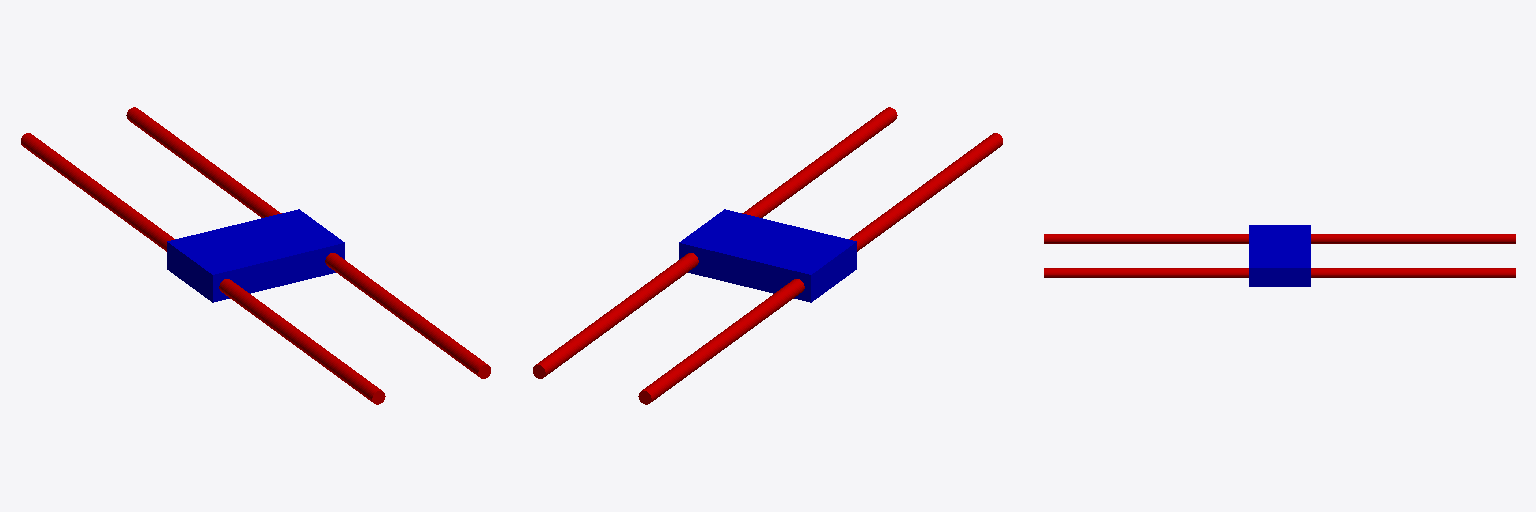
robot.urdf — Tetrapod:
<?xml version="1.0"?>

<robot name="Tetrapod">

    <material name="red">
        <color rgba="0.8 0.0 0.0 1.0"/>
    </material>

    <material name="green">
        <color rgba="0.0 0.8 0.0 1.0"/>
    </material>

    <material name="blue">
        <color rgba="0.0 0.0 0.8 1.0"/>
    </material>

    <material name="white">
        <color rgba="1.0 1.0 1.0 1.0"/>
    </material>

    <material name="black">
        <color rgba="0.1 0.1 0.1 1.0"/>
    </material>

    <!-- Dummy link-->
    <link name="base_link"></link>
    <joint name="base_link_joint" type="fixed">
        <parent link="base_link"/>
        <child link="body"/>
    </joint>

    <link name="body">
        <inertial>
            <mass value="3.0" />
            <inertia ixx="0.12" ixy="0" ixz="0" iyy="0.14" iyz="0" izz="0.07"/>
        </inertial>
        <visual>
            <geometry>
                <box size="0.5 0.3 0.1"/>
            </geometry>
            <material name="blue"/>
        </visual>
        <!--collision>
            <geometry>
                <box size="0.5 0.3 0.2"/>
            </geometry>
        </collision-->
    </link>
    
		

		<!-- Left front link -->

    <link name="front_left_hip">
        <inertial>
            <origin xyz="0.0 0.0 0.0" rpy="0 0 0" />
            <mass value="1.0" />
            <inertia ixx="1.0" ixy="0" ixz="0" iyy="1.0" iyz="0" izz="1.0" />
        </inertial>
				
        <!--visual>
            <origin xyz="0 0 0" rpy="0 0 0" />
            <geometry>
                <box size = "0.05 0.2 0.2" />
            </geometry>
            <material name="black" />
        </visual-->
    </link>

	
    <joint name="front_left_hip_yaw" type="revolute">
        <parent link="body"/>
        <child link="front_left_hip"/>
        <origin xyz="0.2 0.15 0.0" rpy="0.0 0.0 1.5708"/> <!--rpy="0.0 0.0 1.5708"/-->
        <axis xyz="0 0 1"/>
        <limit effort="100.0" lower="-1.5" upper="1.5" velocity="100.0"/>
    </joint>
		
    <transmission type="SimpleTransmission">
        <joint name="front_left_hip_yaw"/>
        <actuator name="front_left_hip_yaw"/>
    </transmission>
		
    <link name="front_left_upper_leg">
        <inertial>
            <origin xyz="0.25 0.0 0.0" rpy="0.0 1.5708 0.0"/>
            <mass value="1.0"/>
            <inertia ixx="1.0" ixy="0" ixz="0" iyy="1.0" iyz="0" izz="1.0"/>
        </inertial>
        <visual>
            <origin xyz="0.25 0.0 0.0" rpy="0.0 1.5708 0.0"/>
            <mass value="1.0"/>
            <geometry>
                <cylinder length="0.5" radius="0.025"/>
            </geometry>
            <material name="red"/>
        </visual>
    </link>

    <joint name="front_left_hip_pitch" type="revolute">
        <parent link="front_left_hip"/>
        <child link="front_left_upper_leg"/>
        <origin xyz="0.0 0.0 0.0" rpy="0.0 0.0 0.0"/>
        <axis xyz="0.0 1.0 0.0" />
        <limit effort="1000" lower="-1.5" upper="1.5" velocity="100"/>
    </joint>

    <transmission type="SimpleTransmission">
        <joint name="front_left_hip_yaw"/>
        <actuator name="front_left_hip_yaw"/>
    </transmission>
		
    <link name="front_left_lower_leg">
        <inertial>
            <origin xyz="0.25 0.0 0.0" rpy="0.0 1.5708 0.0"/>
            <mass value="1.0"/>
            <inertia ixx="1.0" ixy="0" ixz="0" iyy="1.0" iyz="0" izz="1.0"/>
        </inertial>
        <visual>
            <origin xyz="0.25 0.0 0.0" rpy="0.0 1.5708 0.0"/>
            <geometry>
                <cylinder length="0.5" radius="0.025"/>
            </geometry>
            <material name="red"/>
        </visual>
        
        <!--collision group="left_lower_legs">
            <origin xyz="0.0 0.0 0.0"/>
            <geometry>
                <capsule radius="0.012" length="0.09"/>
            </geometry>
        </collision-->
        <!--collision group="feet">
            <origin xyz="0.0 0.0 0.0"/>
            <geometry>
                <sphere radius="0.0"/>
            </geometry>
        </collision-->
    </link>

    <joint name="front_left_knee" type="revolute">
        <parent link="front_left_upper_leg"/>
        <child link="front_left_lower_leg"/>
        <origin xyz="0.5 0.0 0.0"/>
        <axis xyz="0.0 1.0 0.0" />
        <limit effort="1000.0" lower="-1.0" upper="1.0" velocity="10"/>
    </joint>

    <transmission type="SimpleTransmission">
        <joint name="front_left_knee"/>
        <actuator name="front_left_knee"/>
    </transmission>

    <!--frame link="front_left_lower_leg" name="front_left_foot_center" xyz="-0.5 0.0 0.0"/-->




		<!-- Left rear link -->

    <link name="rear_left_hip">
        <inertial>
            <origin xyz="0.0 0.0 0.0" rpy="0 0 0" />
            <mass value="1.0" />
            <inertia ixx="1.0" ixy="0" ixz="0" iyy="1.0" iyz="0" izz="1.0" />
        </inertial>
				
        <!--visual>
            <origin xyz="0 0 0" rpy="0 0 0" />
            <geometry>
                <box size = "0.05 0.2 0.2" />
            </geometry>
            <material name="black" />
        </visual-->
    </link>

	
    <joint name="rear_left_hip_yaw" type="revolute">
        <parent link="body"/>
        <child link="rear_left_hip"/>
        <origin xyz="-0.2 0.15 0.0" rpy="0.0 0.0 1.5708"/> <!--rpy="0.0 0.0 1.5708"/-->
        <axis xyz="0 0 1"/>
        <limit effort="100.0" lower="-1.5" upper="1.5" velocity="100.0"/>
    </joint>
		
    <transmission type="SimpleTransmission">
        <joint name="rear_left_hip_yaw"/>
        <actuator name="rear_left_hip_yaw"/>
    </transmission>
		
    <link name="rear_left_upper_leg">
        <inertial>
            <origin xyz="0.25 0.0 0.0" rpy="0.0 1.5708 0.0"/>
            <mass value="1.0"/>
            <inertia ixx="1.0" ixy="0" ixz="0" iyy="1.0" iyz="0" izz="1.0"/>
        </inertial>
        <visual>
            <origin xyz="0.25 0.0 0.0" rpy="0.0 1.5708 0.0"/>
            <mass value="1.0"/>
            <geometry>
                <cylinder length="0.5" radius="0.025"/>
            </geometry>
            <material name="red"/>
        </visual>
    </link>

    <joint name="rear_left_hip_pitch" type="revolute">
        <parent link="rear_left_hip"/>
        <child link="rear_left_upper_leg"/>
        <origin xyz="0.0 0.0 0.0" rpy="0.0 0.0 0.0"/>
        <axis xyz="0.0 1.0 0.0" />
        <limit effort="1000" lower="-1.5" upper="1.5" velocity="100"/>
    </joint>

    <transmission type="SimpleTransmission">
        <joint name="rear_left_hip_yaw"/>
        <actuator name="rear_left_hip_yaw"/>
    </transmission>
		
    <link name="rear_left_lower_leg">
        <inertial>
            <origin xyz="0.25 0.0 0.0" rpy="0.0 1.5708 0.0"/>
            <mass value="1.0"/>
            <inertia ixx="1.0" ixy="0" ixz="0" iyy="1.0" iyz="0" izz="1.0"/>
        </inertial>
        <visual>
            <origin xyz="0.25 0.0 0.0" rpy="0.0 1.5708 0.0"/>
            <geometry>
                <cylinder length="0.5" radius="0.025"/>
            </geometry>
            <material name="red"/>
        </visual>
        
        <!--collision group="left_lower_legs">
            <origin xyz="0.0 0.0 0.0"/>
            <geometry>
                <capsule radius="0.012" length="0.09"/>
            </geometry>
        </collision-->
        <!--collision group="feet">
            <origin xyz="0.0 0.0 0.0"/>
            <geometry>
                <sphere radius="0.0"/>
            </geometry>
        </collision-->
    </link>

    <joint name="rear_left_knee" type="revolute">
        <parent link="rear_left_upper_leg"/>
        <child link="rear_left_lower_leg"/>
        <origin xyz="0.5 0.0 0.0"/>
        <axis xyz="0.0 1.0 0.0" />
        <limit effort="1000.0" lower="-1.0" upper="1.0" velocity="10"/>
    </joint>

    <transmission type="SimpleTransmission">
        <joint name="rear_left_knee"/>
        <actuator name="rear_left_knee"/>
    </transmission>

    <!--frame link="rear_left_lower_leg" name="rear_left_foot_center" xyz="-0.5 0.0 0.0"/-->



		<!-- Right front foot -->
    <link name="front_right_hip">
        <inertial>
            <origin xyz="0.0 0.0 0.0" rpy="0 0 0" />
            <mass value="1.0" />
            <inertia ixx="1.0" ixy="0" ixz="0" iyy="1.0" iyz="0" izz="1.0" />
        </inertial>
				
        <!--visual>
            <origin xyz="0 0 0" rpy="0 0 0" />
            <geometry>
                <box size = "0.05 0.2 0.2" />
            </geometry>
            <material name="black" />
        </visual-->
    </link>

	
    <joint name="front_right_hip_yaw" type="revolute">
        <parent link="body"/>
        <child link="front_right_hip"/>
        <origin xyz="0.2 -0.15 0.0" rpy="0.0 0.0 -1.5708"/> <!--rpy="0.0 0.0 1.5708"/-->
        <axis xyz="0 0 1"/>
        <limit effort="100.0" lower="-1.5" upper="1.5" velocity="100.0"/>
    </joint>
		
    <transmission type="SimpleTransmission">
        <joint name="front_right_hip_yaw"/>
        <actuator name="front_right_hip_yaw"/>
    </transmission>
		
    <link name="front_right_upper_leg">
        <inertial>
            <origin xyz="0.25 0.0 0.0" rpy="0.0 1.5708 0.0"/>
            <mass value="1.0"/>
            <inertia ixx="1.0" ixy="0" ixz="0" iyy="1.0" iyz="0" izz="1.0"/>
        </inertial>
        <visual>
            <origin xyz="0.25 0.0 0.0" rpy="0.0 1.5708 0.0"/>
            <mass value="1.0"/>
            <geometry>
                <cylinder length="0.5" radius="0.025"/>
            </geometry>
            <material name="red"/>
        </visual>
    </link>

    <joint name="front_right_hip_pitch" type="revolute">
        <parent link="front_right_hip"/>
        <child link="front_right_upper_leg"/>
        <origin xyz="0.0 0.0 0.0" rpy="0.0 0.0 0.0"/>
        <axis xyz="0.0 1.0 0.0" />
        <limit effort="1000" lower="-1.5" upper="1.5" velocity="100"/>
    </joint>

    <transmission type="SimpleTransmission">
        <joint name="front_right_hip_yaw"/>
        <actuator name="front_right_hip_yaw"/>
    </transmission>
		
    <link name="front_right_lower_leg">
        <inertial>
            <origin xyz="0.25 0.0 0.0" rpy="0.0 1.5708 0.0"/>
            <mass value="1.0"/>
            <inertia ixx="1.0" ixy="0" ixz="0" iyy="1.0" iyz="0" izz="1.0"/>
        </inertial>
        <visual>
            <origin xyz="0.25 0.0 0.0" rpy="0.0 1.5708 0.0"/>
            <geometry>
                <cylinder length="0.5" radius="0.025"/>
            </geometry>
            <material name="red"/>
        </visual>
        
        <!--collision group="left_lower_legs">
            <origin xyz="0.0 0.0 0.0"/>
            <geometry>
                <capsule radius="0.012" length="0.09"/>
            </geometry>
        </collision-->
        <!--collision group="feet">
            <origin xyz="0.0 0.0 0.0"/>
            <geometry>
                <sphere radius="0.0"/>
            </geometry>
        </collision-->
    </link>

    <joint name="front_right_knee" type="revolute">
        <parent link="front_right_upper_leg"/>
        <child link="front_right_lower_leg"/>
        <origin xyz="0.5 0.0 0.0"/>
        <axis xyz="0.0 1.0 0.0" />
        <limit effort="1000.0" lower="-1.0" upper="1.0" velocity="10"/>
    </joint>

    <transmission type="SimpleTransmission">
        <joint name="front_right_knee"/>
        <actuator name="front_right_knee"/>
    </transmission>




		<!-- Right rear foot -->

    <link name="rear_right_hip">
        <inertial>
            <origin xyz="0.0 0.0 0.0" rpy="0 0 0" />
            <mass value="1.0" />
            <inertia ixx="1.0" ixy="0" ixz="0" iyy="1.0" iyz="0" izz="1.0" />
        </inertial>
				
        <!--visual>
            <origin xyz="0 0 0" rpy="0 0 0" />
            <geometry>
                <box size = "0.05 0.2 0.2" />
            </geometry>
            <material name="black" />
        </visual-->
    </link>

	
    <joint name="rear_right_hip_yaw" type="revolute">
        <parent link="body"/>
        <child link="rear_right_hip"/>
        <origin xyz="-0.2 -0.15 0.0" rpy="0.0 0.0 -1.5708"/> <!--rpy="0.0 0.0 1.5708"/-->
        <axis xyz="0 0 1"/>
        <limit effort="100.0" lower="-1.5" upper="1.5" velocity="100.0"/>
    </joint>
		
    <transmission type="SimpleTransmission">
        <joint name="rear_right_hip_yaw"/>
        <actuator name="rear_right_hip_yaw"/>
    </transmission>
		
    <link name="rear_right_upper_leg">
        <inertial>
            <origin xyz="0.25 0.0 0.0" rpy="0.0 1.5708 0.0"/>
            <mass value="1.0"/>
            <inertia ixx="1.0" ixy="0" ixz="0" iyy="1.0" iyz="0" izz="1.0"/>
        </inertial>
        <visual>
            <origin xyz="0.25 0.0 0.0" rpy="0.0 1.5708 0.0"/>
            <mass value="1.0"/>
            <geometry>
                <cylinder length="0.5" radius="0.025"/>
            </geometry>
            <material name="red"/>
        </visual>
    </link>

    <joint name="rear_right_hip_pitch" type="revolute">
        <parent link="rear_right_hip"/>
        <child link="rear_right_upper_leg"/>
        <origin xyz="0.0 0.0 0.0" rpy="0.0 0.0 0.0"/>
        <axis xyz="0.0 1.0 0.0" />
        <limit effort="1000" lower="-1.5" upper="1.5" velocity="100"/>
    </joint>

    <transmission type="SimpleTransmission">
        <joint name="rear_right_hip_yaw"/>
        <actuator name="rear_right_hip_yaw"/>
    </transmission>
		
    <link name="rear_right_lower_leg">
        <inertial>
            <origin xyz="0.25 0.0 0.0" rpy="0.0 1.5708 0.0"/>
            <mass value="1.0"/>
            <inertia ixx="1.0" ixy="0" ixz="0" iyy="1.0" iyz="0" izz="1.0"/>
        </inertial>
        <visual>
            <origin xyz="0.25 0.0 0.0" rpy="0.0 1.5708 0.0"/>
            <geometry>
                <cylinder length="0.5" radius="0.025"/>
            </geometry>
            <material name="red"/>
        </visual>
        
        <!--collision group="left_lower_legs">
            <origin xyz="0.0 0.0 0.0"/>
            <geometry>
                <capsule radius="0.012" length="0.09"/>
            </geometry>
        </collision-->
        <!--collision group="feet">
            <origin xyz="0.0 0.0 0.0"/>
            <geometry>
                <sphere radius="0.0"/>
            </geometry>
        </collision-->
    </link>

    <joint name="rear_right_knee" type="revolute">
        <parent link="rear_right_upper_leg"/>
        <child link="rear_right_lower_leg"/>
        <origin xyz="0.5 0.0 0.0"/>
        <axis xyz="0.0 1.0 0.0" />
        <limit effort="1000.0" lower="-1.0" upper="1.0" velocity="10"/>
    </joint>

    <transmission type="SimpleTransmission">
        <joint name="rear_right_knee"/>
        <actuator name="rear_right_knee"/>
    </transmission>

</robot>

--- Render facts (derived) ---
The picture shows the robot from 3 angles, left to right: view 1: azimuth 30°, elevation 25°; view 2: azimuth 150°, elevation 25°; view 3: azimuth 270°, elevation 25°; orthographic projection.
Model Tetrapod with 14 links and 13 joints (12 revolute, 1 fixed), rooted at base_link, posed all joints at 0.
Links seen in each view (by area): view 1: body, front_right_lower_leg, rear_right_lower_leg, rear_right_upper_leg, rear_left_lower_leg, front_right_upper_leg, front_left_lower_leg, rear_left_upper_leg, front_left_upper_leg; view 2: body, front_left_lower_leg, rear_left_lower_leg, rear_left_upper_leg, front_left_upper_leg, rear_right_lower_leg, front_right_lower_leg, rear_right_upper_leg, front_right_upper_leg; view 3: body, front_left_lower_leg, rear_left_lower_leg, front_right_lower_leg, rear_right_lower_leg, front_left_upper_leg, rear_left_upper_leg, front_right_upper_leg, rear_right_upper_leg.
Link boxes in pixels (x1,y1,x2,y2): body: (167,209,344,302); front_right_lower_leg: (402,309,490,378); rear_right_lower_leg: (296,335,385,404); rear_right_upper_leg: (219,279,305,347); rear_left_lower_leg: (21,133,105,200); front_right_upper_leg: (325,253,410,320); front_left_lower_leg: (126,107,211,174); rear_left_upper_leg: (97,189,174,251); front_left_upper_leg: (203,163,281,217); body: (679,209,856,302); front_left_lower_leg: (533,309,621,378); rear_left_lower_leg: (638,335,727,404); rear_left_upper_leg: (718,279,804,347); front_left_upper_leg: (613,253,698,320); rear_right_lower_leg: (918,133,1002,200); front_right_lower_leg: (812,107,897,174); rear_right_upper_leg: (849,189,926,251); front_right_upper_leg: (742,163,820,217); body: (1249,225,1310,286); front_left_lower_leg: (1413,268,1515,277); rear_left_lower_leg: (1413,234,1515,243); front_right_lower_leg: (1044,268,1146,277); rear_right_lower_leg: (1044,234,1146,243); front_left_upper_leg: (1311,268,1412,277); rear_left_upper_leg: (1311,234,1412,243); front_right_upper_leg: (1147,268,1248,277); rear_right_upper_leg: (1147,234,1248,243).
Bounding box of the posed robot: 0.5 × 2.3 × 0.1 m (x, y, z).
Geometry: primitives only (box / cylinder / sphere), no mesh files.